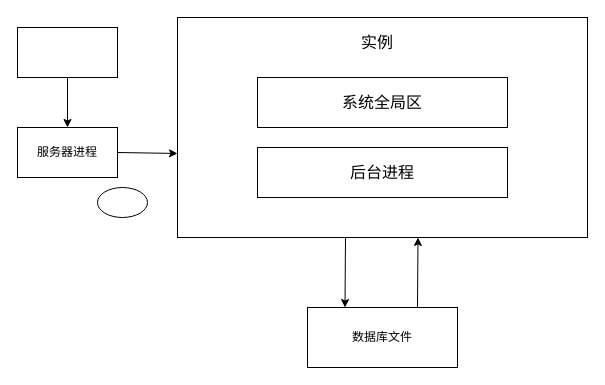
Some shapes in this 605 by 385 pixel diagram are drawn without their labels. The centre of each missing label's shape, as x and y in pixels:
"PGA" goes at pixel 122 202.
"用户进程" goes at pixel 67 52.
